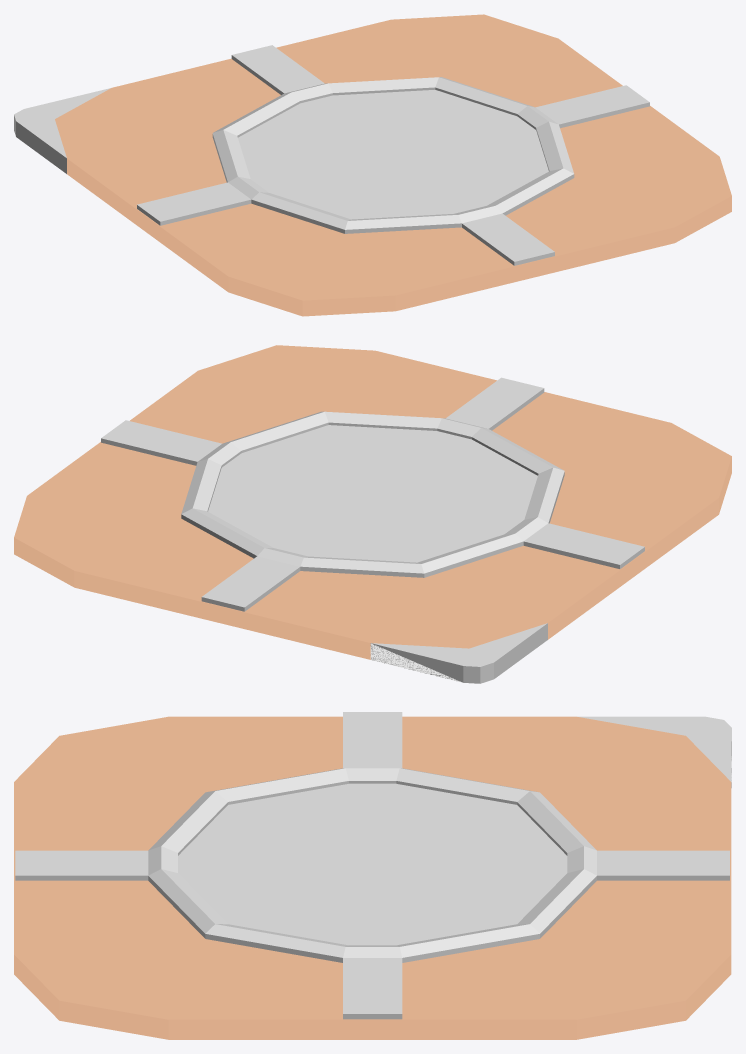
Rendered from bandaid.fbx.
3 renders of one model, top to bottom at view 1: azimuth 30°, elevation 25°; view 2: azimuth 150°, elevation 25°; view 3: azimuth 270°, elevation 25°, orthographic. The views are drawn at different scales.
Parts seen in each view (by area): view 1: Penso_BraveHearts; view 2: Penso_BraveHearts; view 3: Penso_BraveHearts.
Part boxes in pixels (x1,y1,x2,y2): Penso_BraveHearts: (14, 14, 731, 316); Penso_BraveHearts: (14, 345, 731, 683); Penso_BraveHearts: (14, 712, 731, 1039).
Bounding box in the file's own units: 200 × 9.46 × 200.
